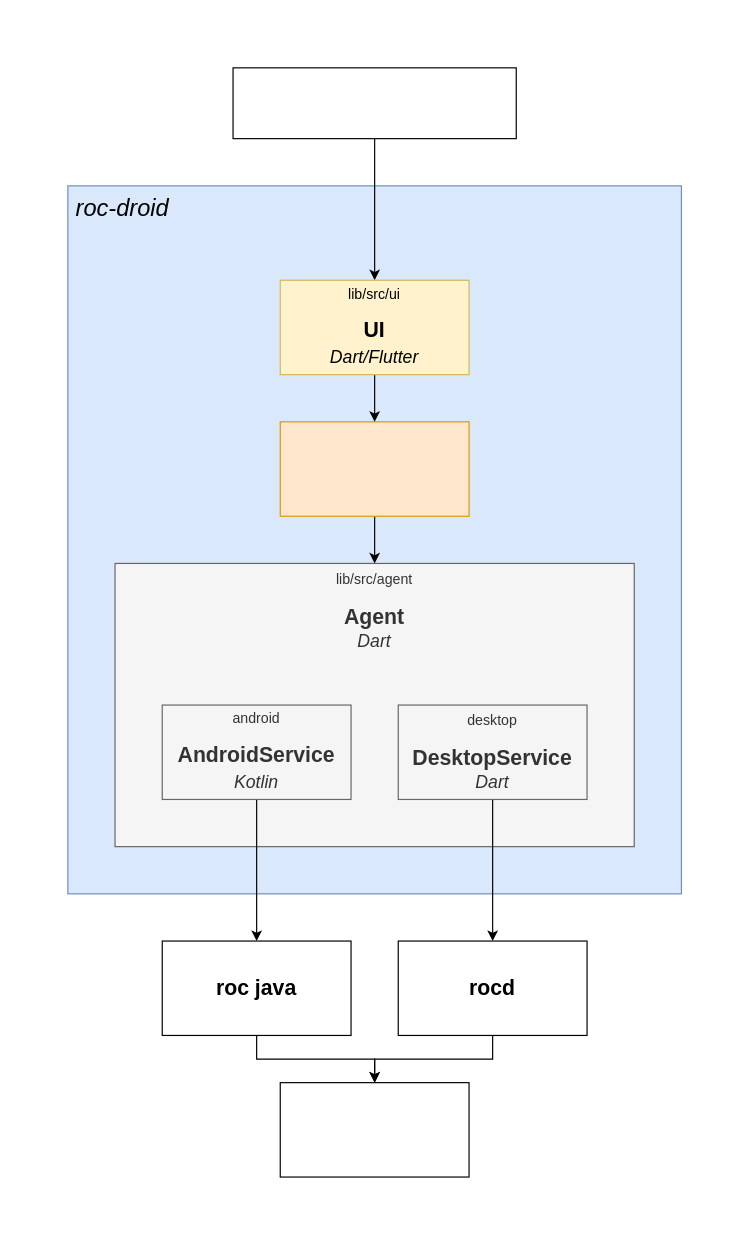
Some shapes in this 748 by 1244 pixel diagram are drawn without their labels. Each missing label, with the centre of its shape:
"actor - user" goes at point (374, 103).
"lib/src / model Model Dart" goes at point (374, 468).
"roc toolkit" goes at point (374, 1129).
